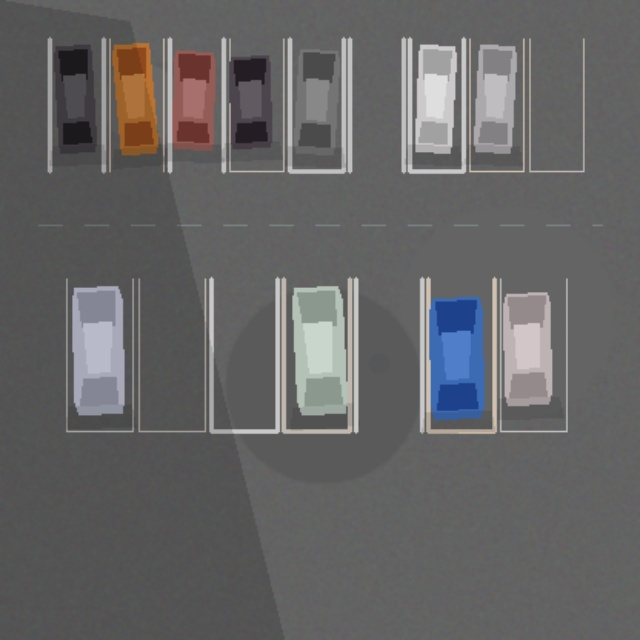space-empty: (138, 278, 205, 431), (355, 278, 422, 431), (211, 278, 277, 431), (349, 38, 403, 171), (529, 38, 583, 171)
space-occupied: (66, 278, 132, 431), (283, 278, 349, 431), (428, 278, 494, 431), (500, 278, 566, 431), (49, 38, 103, 171), (109, 38, 163, 171), (169, 38, 223, 171), (229, 38, 283, 171), (289, 38, 343, 171), (409, 38, 463, 171), (469, 38, 523, 171)
